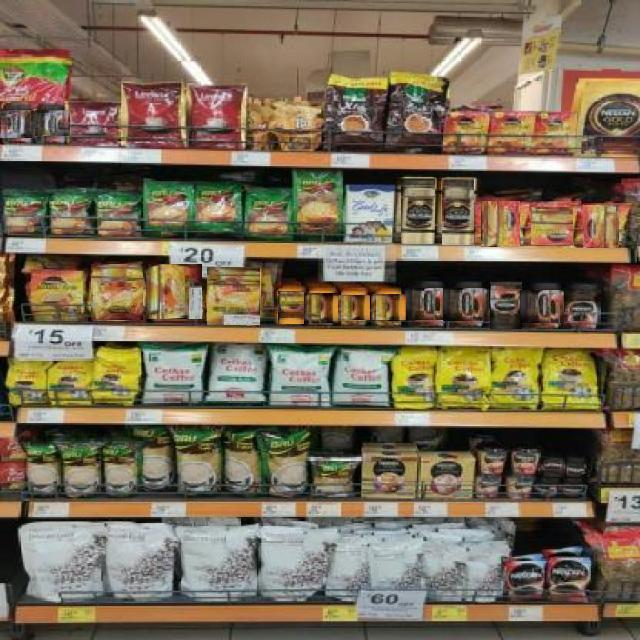Coffee: (145, 264, 202, 319), (206, 267, 260, 325), (90, 263, 143, 320), (30, 271, 84, 322), (401, 177, 435, 244), (441, 178, 474, 245), (481, 201, 520, 246), (550, 557, 590, 599), (530, 206, 573, 245), (565, 284, 599, 331), (583, 204, 619, 248), (520, 289, 566, 323), (404, 287, 451, 320), (489, 282, 522, 329), (506, 562, 546, 600), (443, 288, 488, 321), (30, 110, 70, 136), (303, 294, 338, 323), (0, 110, 35, 138), (371, 294, 406, 321), (277, 290, 304, 324), (336, 296, 370, 320), (561, 479, 591, 499), (540, 457, 565, 477), (533, 479, 558, 499), (568, 456, 589, 477)
